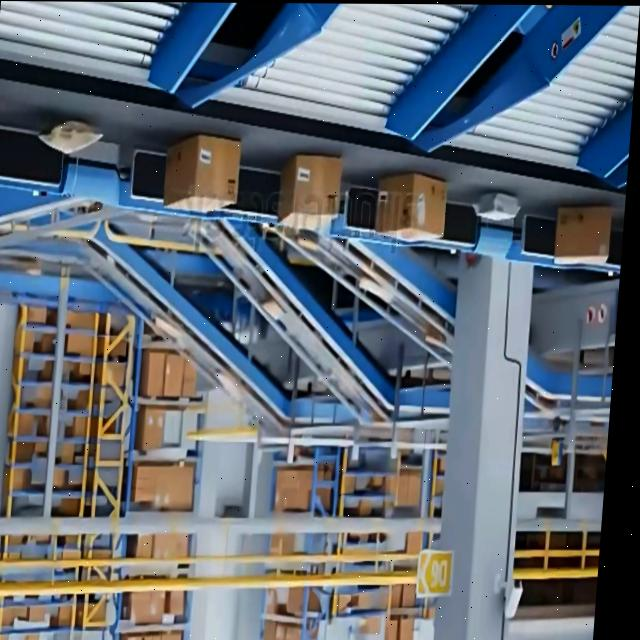product 1: (161, 133, 242, 213), (373, 171, 448, 242), (275, 153, 343, 230)
product 2: (471, 191, 521, 221)
